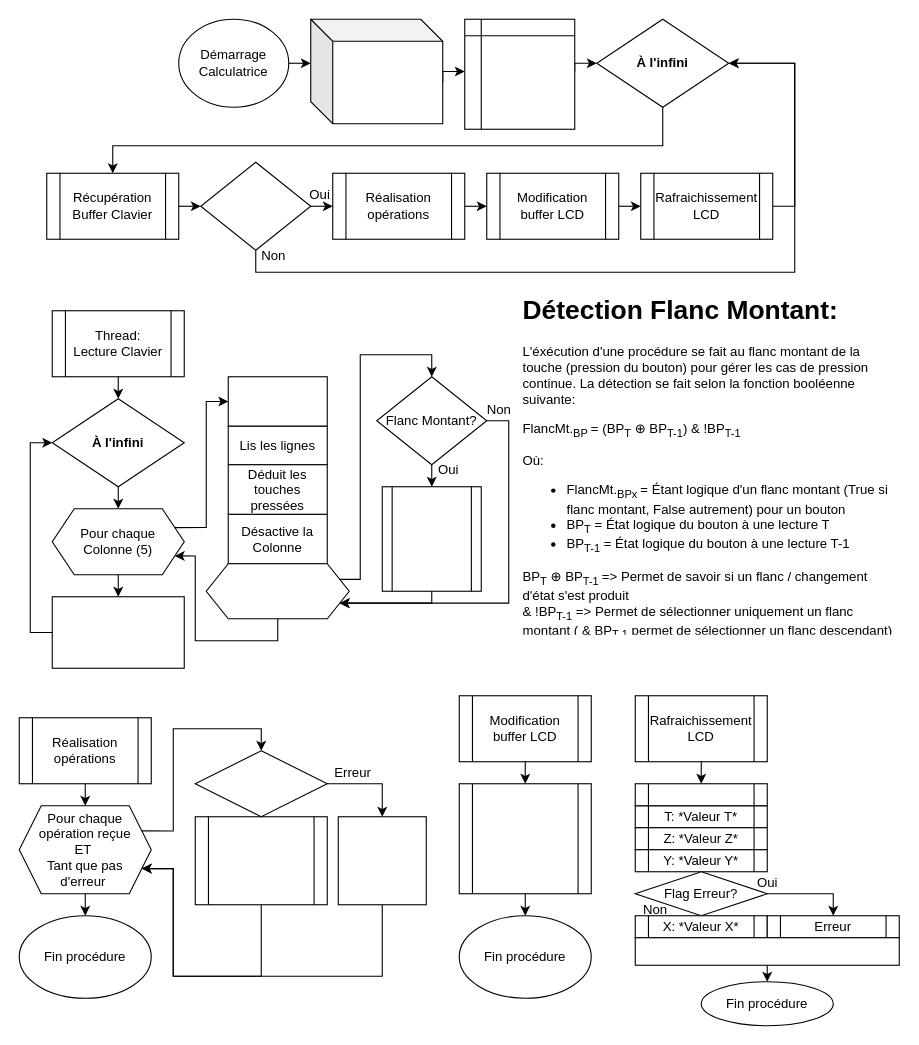
This 919x1045 diagram has some shape labels left out. Here are the shapes that lost their labels. From the top down, the centre of each, then its label:
point 376,71: Initialisation Calculatrice: - Clavier - Système RPN - Écrant
point 519,73: Lancement Thread: - Lecture Clavier
point 255,205: Reçu quelque-chose?
point 277,401: Active la Colonne
point 431,538: Process la touche: - Gestion 2nd - Touche dans Buffer
point 277,591: Pour chaque touche pressée
point 117,632: Attend 50[ms] (définition dynamique clavier, délais anti-rebond)
point 260,783: Essaie
point 700,794: Ecriture sur LCD
point 524,838: Modification dans Buffer: Pile: X, Y, Z, T Etat: 2nd, Erreur
point 260,860: Fait éxecuter l'opération dans le système RPN
point 381,860: Lève un flag "Erreur"
point 766,951: Baisse flag erreur
